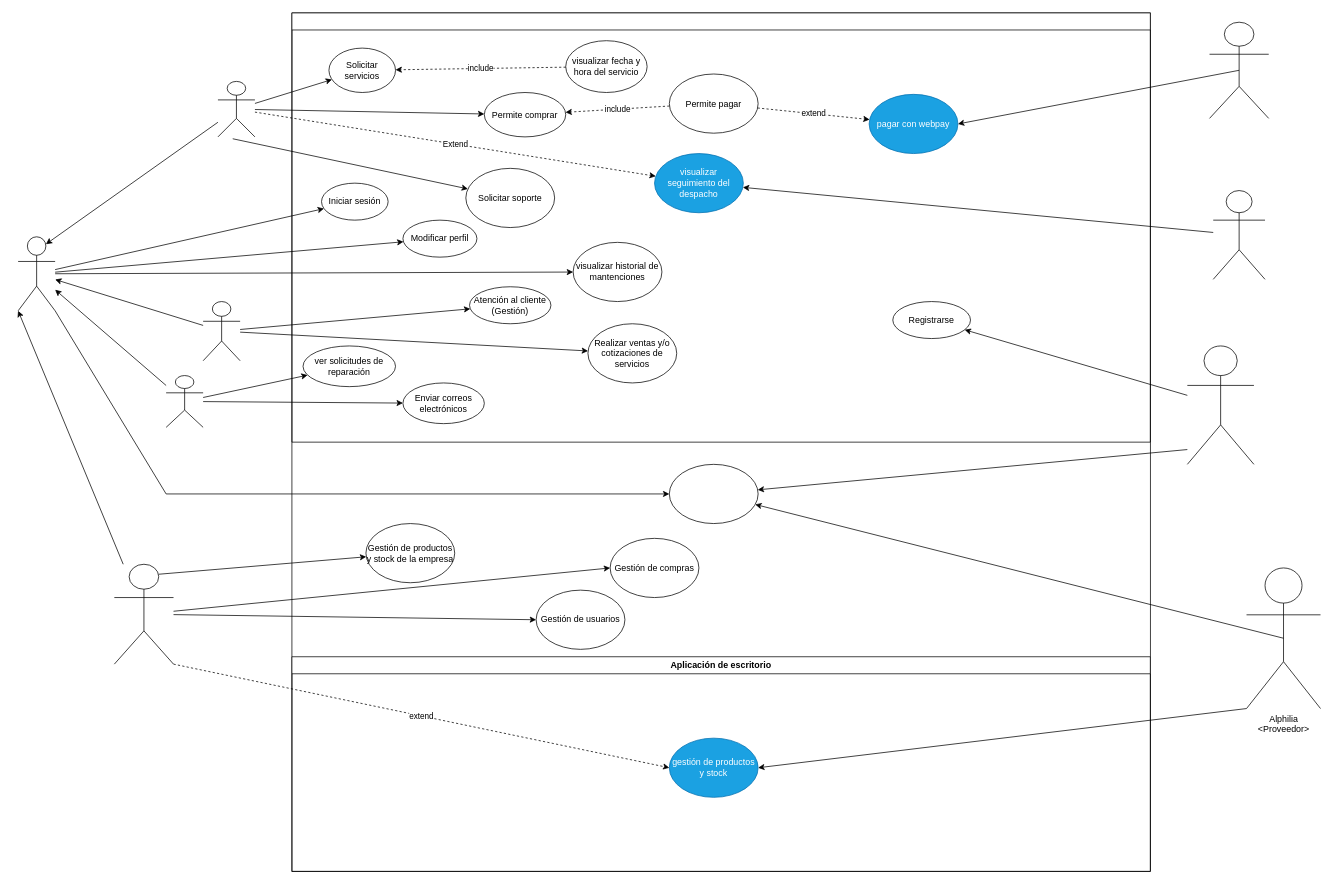
Image size: 1333x884. Some labels were removed from this diagram. Each missing label, with the centre of its shape:
"Admin. sistema" belongs at pixel 144 614.
"Aplicación web" belongs at pixel 720 227.
"Cliente" belongs at pixel 236 109.
"Empleado" belongs at pixel 221 331.
"Invitado" belongs at pixel 1220 404.
"Starken <<Servicio Web>>" belongs at pixel 1238 234.
"Tecnico" belongs at pixel 184 401.
"Usuario" belongs at pixel 36 273.
"visualizar producto y stock" belongs at pixel 713 494.
"Webpay <<Servicio Web>>" belongs at pixel 1239 69.
